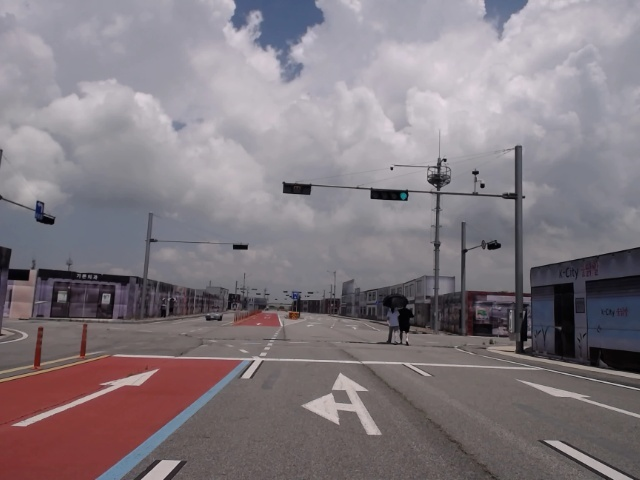straight_green_4: (371, 189, 408, 201)
